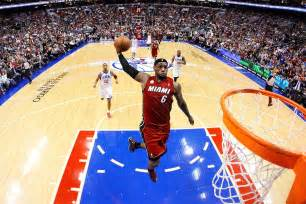basketball: (114, 36, 130, 51)
